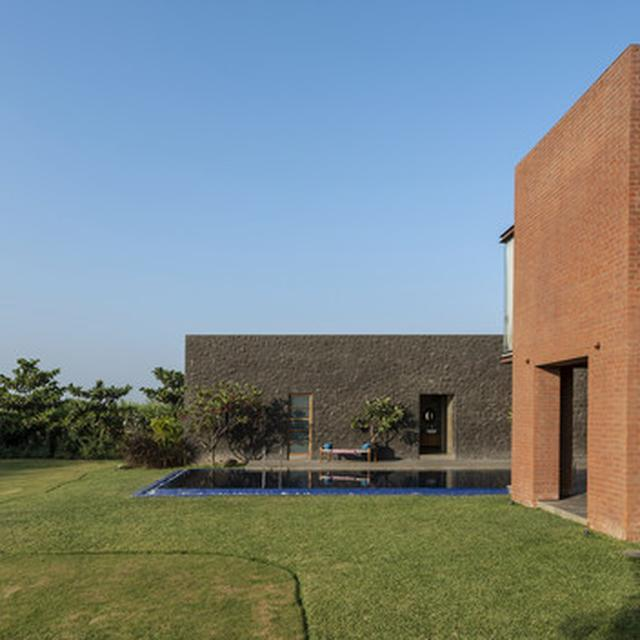building: (501, 44, 640, 542), (185, 333, 510, 468)
